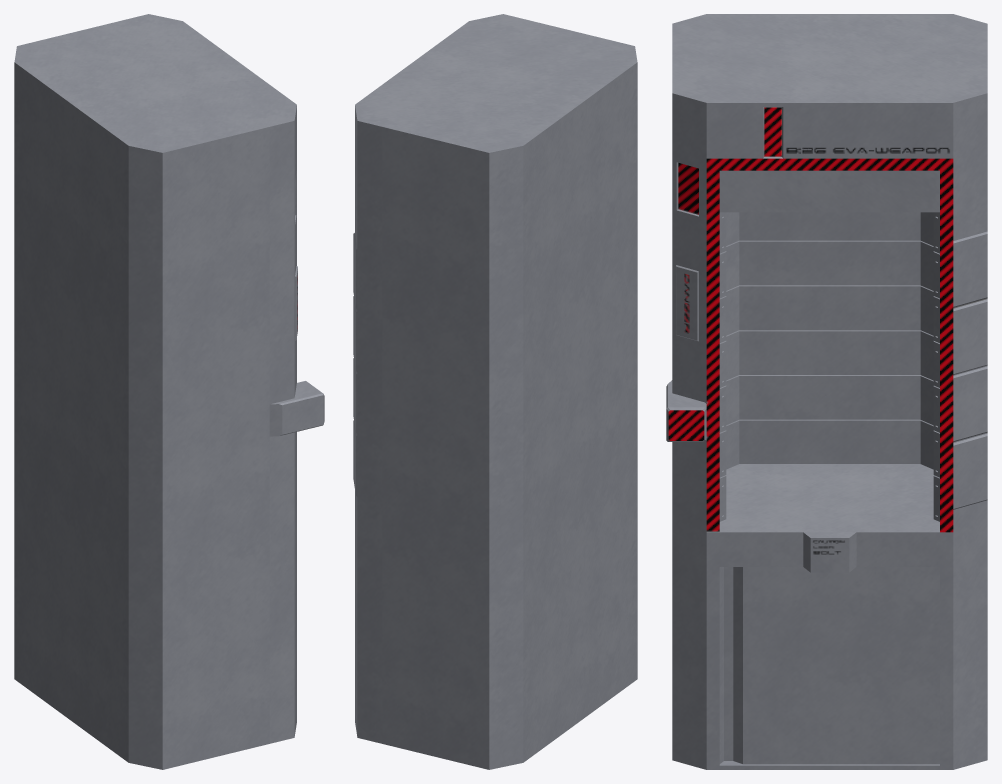
Rendered from gunstore.obj.
The picture shows the model from 3 angles, left to right: view 1: azimuth 30°, elevation 25°; view 2: azimuth 150°, elevation 25°; view 3: azimuth 270°, elevation 25°; orthographic projection. The views are drawn at different scales.
Visible parts, largest first — view 1: Gun_Store_Main_Cube.001; view 2: Gun_Store_Main_Cube.001; view 3: Gun_Store_Main_Cube.001.
Part boxes in pixels (left/top/right/bottom): Gun_Store_Main_Cube.001: left=14, top=14, right=324, bottom=769; Gun_Store_Main_Cube.001: left=353, top=14, right=637, bottom=769; Gun_Store_Main_Cube.001: left=666, top=14, right=987, bottom=769.
Bounding box in the file's own units: 21.29 × 70 × 30.55.
